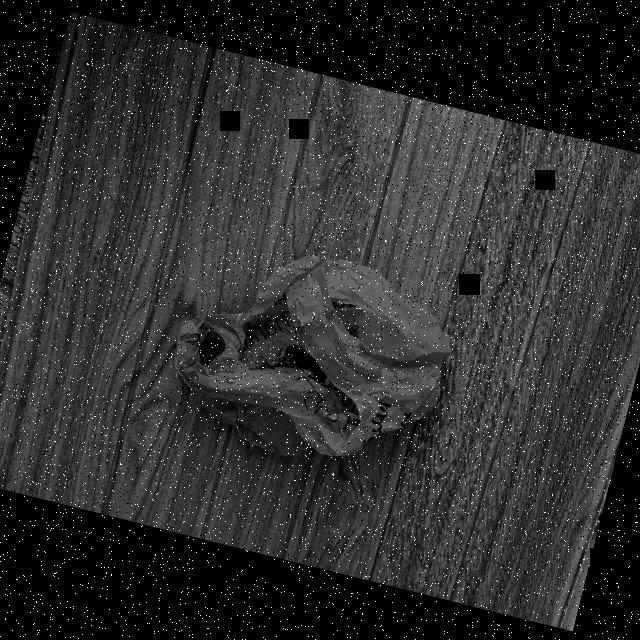plastic_bag: (149, 207, 488, 502)
